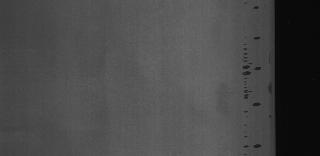oil spot: (238, 33, 264, 117), (242, 135, 266, 151), (249, 3, 261, 12)
